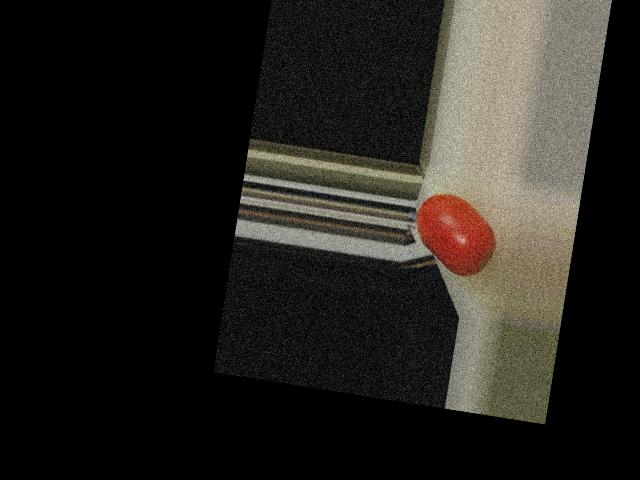tomato: (408, 189, 502, 280)
